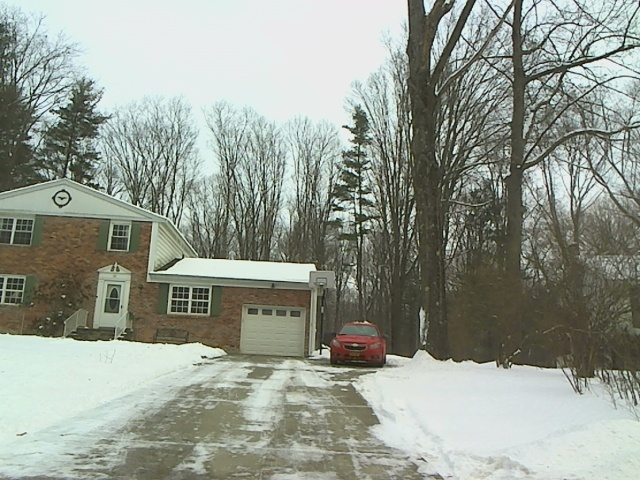Ploughed: (102, 367, 370, 479)
